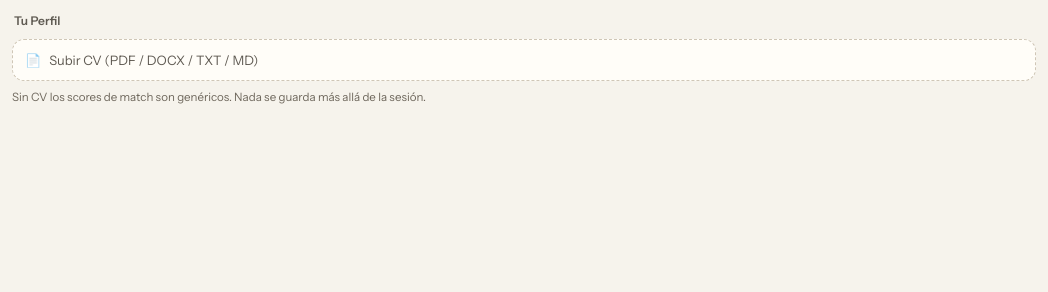
Test case: CVUpload — aviso previo › sin aceptación, Subir muestra el aviso: no abre el selector ni envía nada
Click the button "📄 Subir CV (PDF / DOCX / TXT / MD)": (154, 60) [12,39,1036,81]
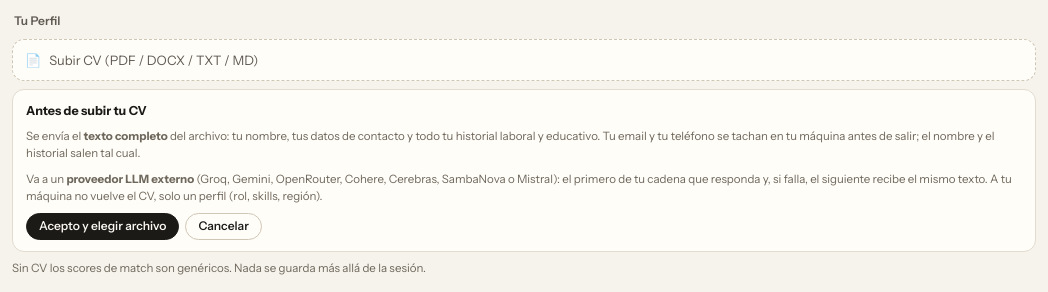
Result: the element named "aviso de envío del CV" shows "nombre" at [26,129,995,160]
Result: the element named "aviso de envío del CV" shows "teléfono" at [26,129,995,160]
Result: the element named "aviso de envío del CV" shows "historial" at [26,129,995,160]
